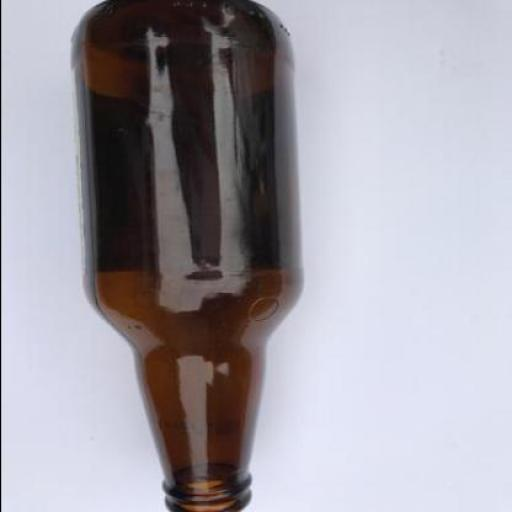glass: (68, 1, 300, 511)
